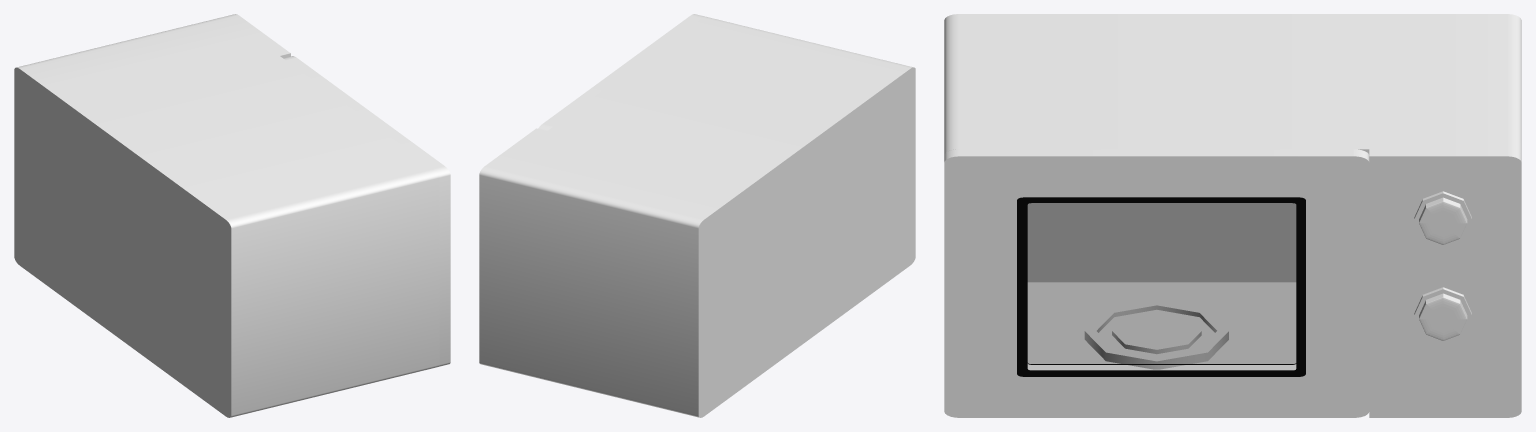
The model's file is microwave.glb.
3 renders of one model, left to right at view 1: azimuth 30°, elevation 25°; view 2: azimuth 150°, elevation 25°; view 3: azimuth 270°, elevation 25°, orthographic. The views are drawn at different scales.
Parts seen in each view (by area): view 1: microwave, door; view 2: microwave, door; view 3: microwave, door.
Part boxes in pixels (bbox=[...]): microwave: bbox=[14, 14, 439, 417]; door: bbox=[283, 56, 450, 366]; microwave: bbox=[479, 16, 915, 417]; door: bbox=[538, 14, 704, 130]; microwave: bbox=[944, 14, 1521, 417]; door: bbox=[944, 149, 1369, 417].
Bounding box in the file's own units: 0.365 × 0.3 × 0.6.
Materials: 3 (3 with a texture image).
